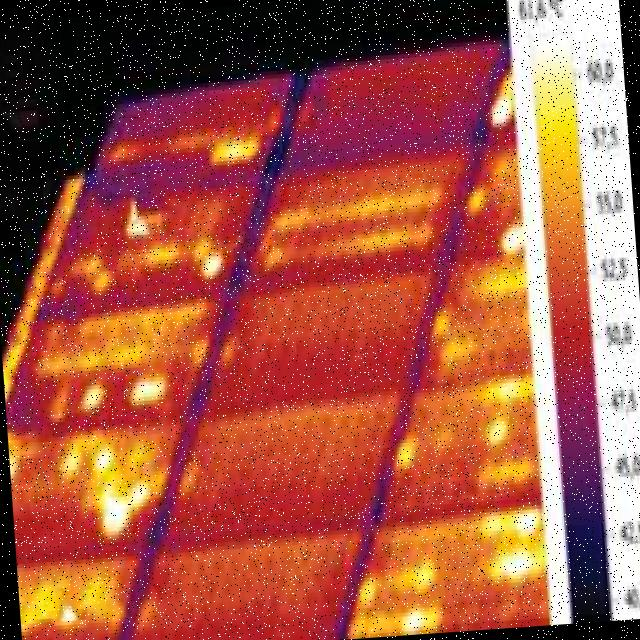Hotspot: (38, 309, 210, 366), (270, 192, 436, 222), (82, 479, 154, 544), (481, 539, 540, 592), (322, 226, 430, 252), (114, 192, 156, 244), (386, 430, 428, 478), (20, 576, 56, 628), (389, 561, 437, 598), (86, 576, 120, 627), (208, 136, 259, 169), (438, 336, 480, 376), (392, 602, 441, 636), (73, 256, 110, 300), (346, 609, 392, 639), (129, 372, 170, 405), (478, 412, 511, 452), (511, 504, 544, 544), (426, 307, 456, 346), (354, 573, 382, 612), (483, 382, 527, 406), (142, 243, 178, 272), (88, 440, 116, 476), (486, 95, 514, 131), (498, 222, 526, 258), (200, 251, 227, 287), (462, 188, 490, 220), (80, 384, 106, 416), (59, 442, 82, 478), (480, 504, 504, 538), (54, 601, 80, 629), (187, 237, 214, 261), (263, 243, 284, 267)
